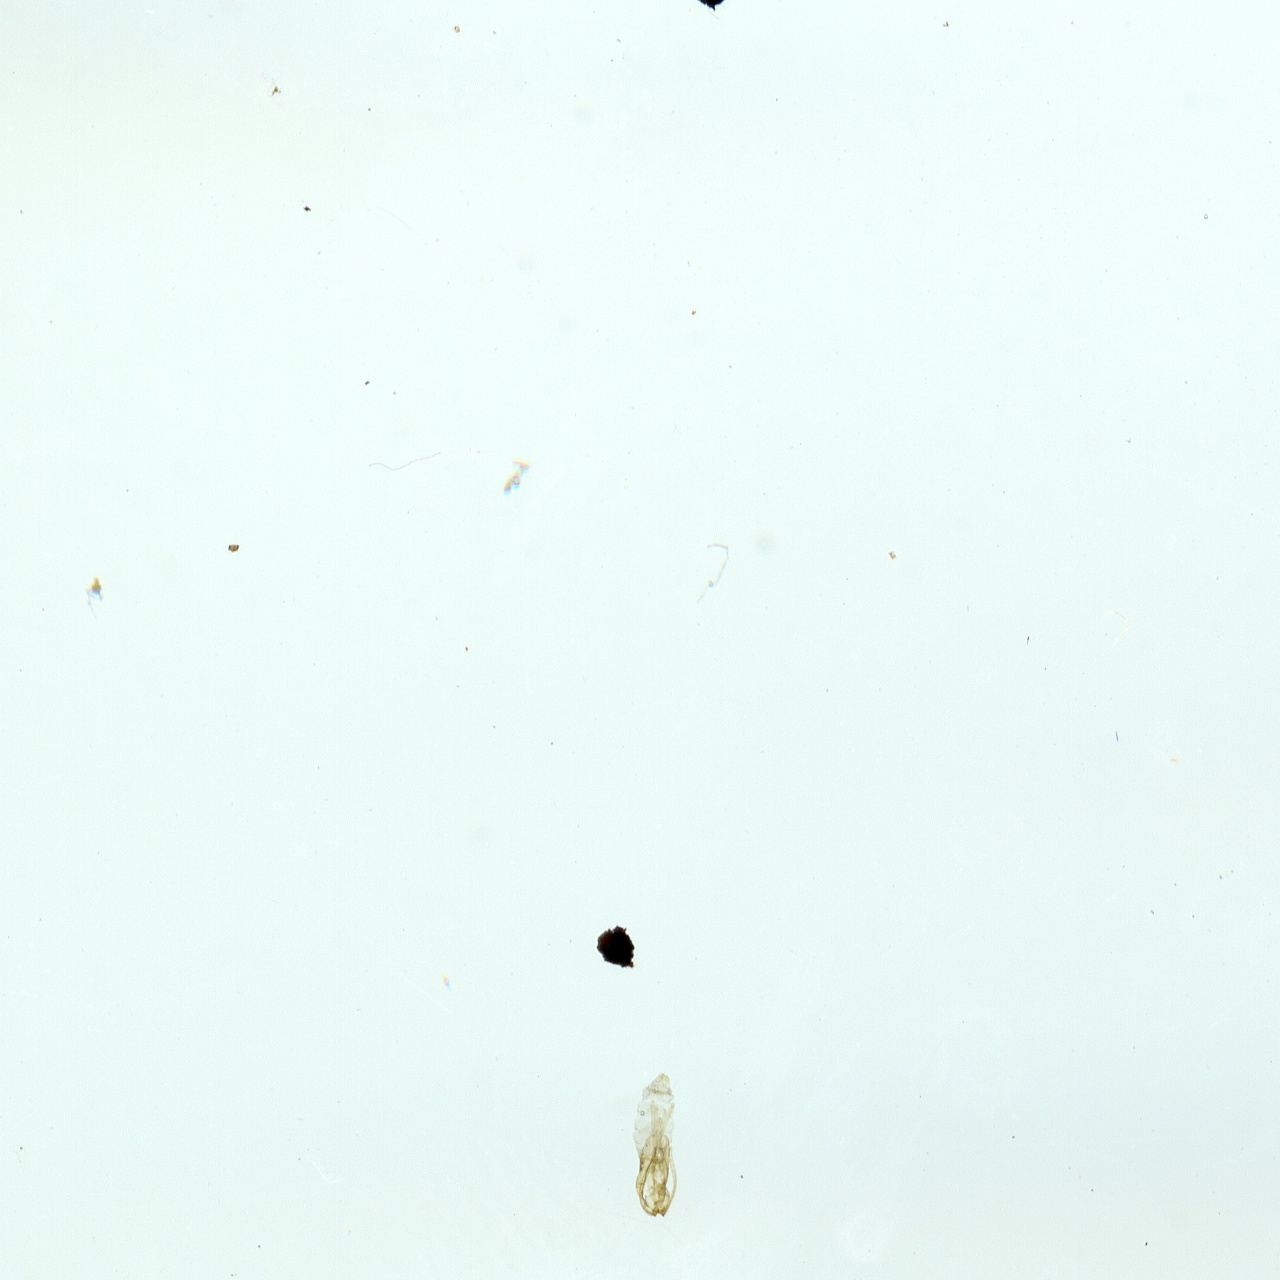arthropod: (625, 1067, 688, 1225)
